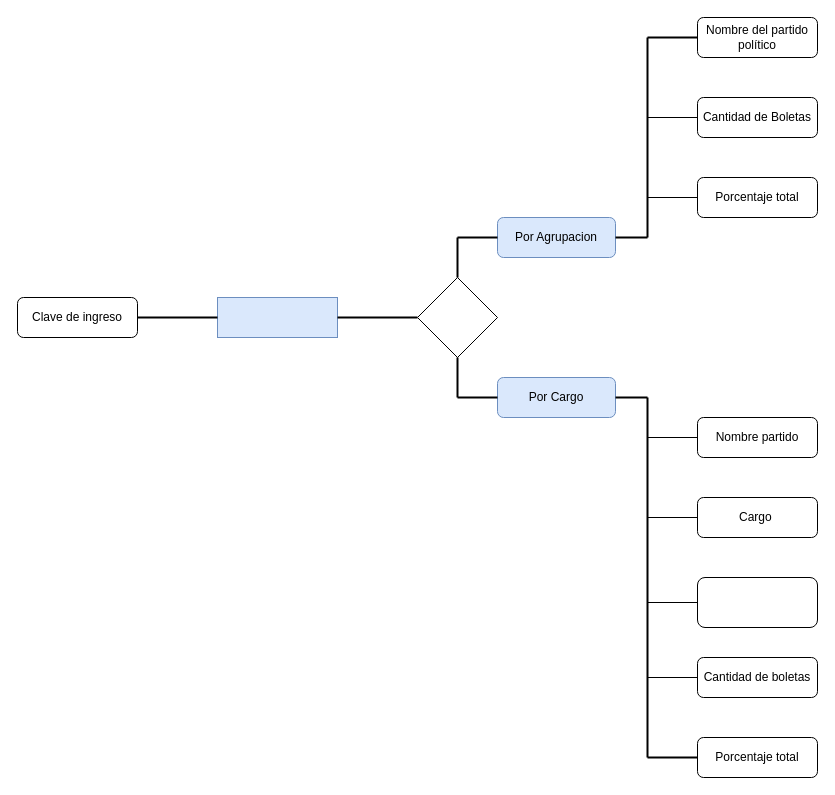
The diagram is 835 pixels wide and 795 high, and some of its shapes have lost their labels. The centre of each missing label's shape, as x and y in pixels:
Nombre de la persona que ocupa el cargo: point 757,602
Presidente de mesa: point 277,317
Vota: point 457,317
